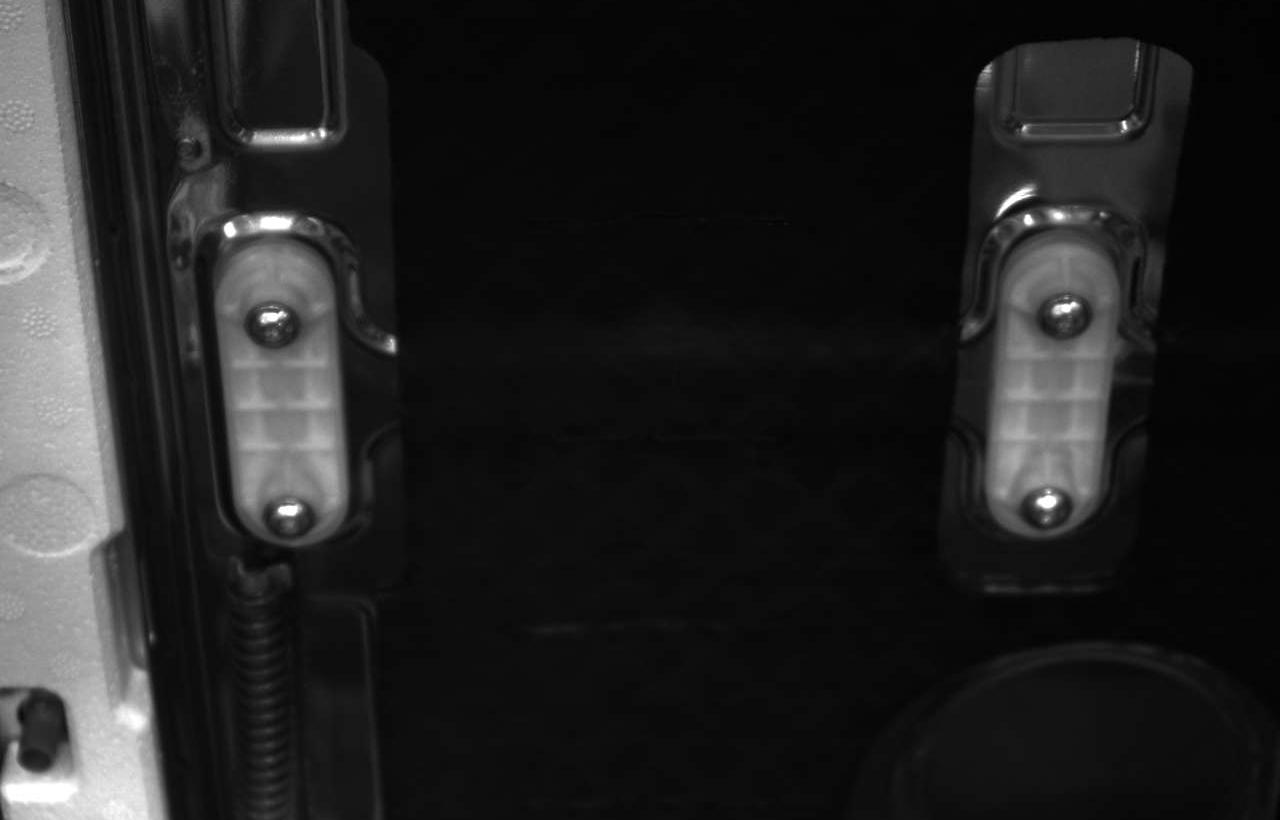vida-ok: (237, 295, 309, 362), (1034, 282, 1101, 349), (1016, 475, 1081, 544), (254, 489, 320, 548)
